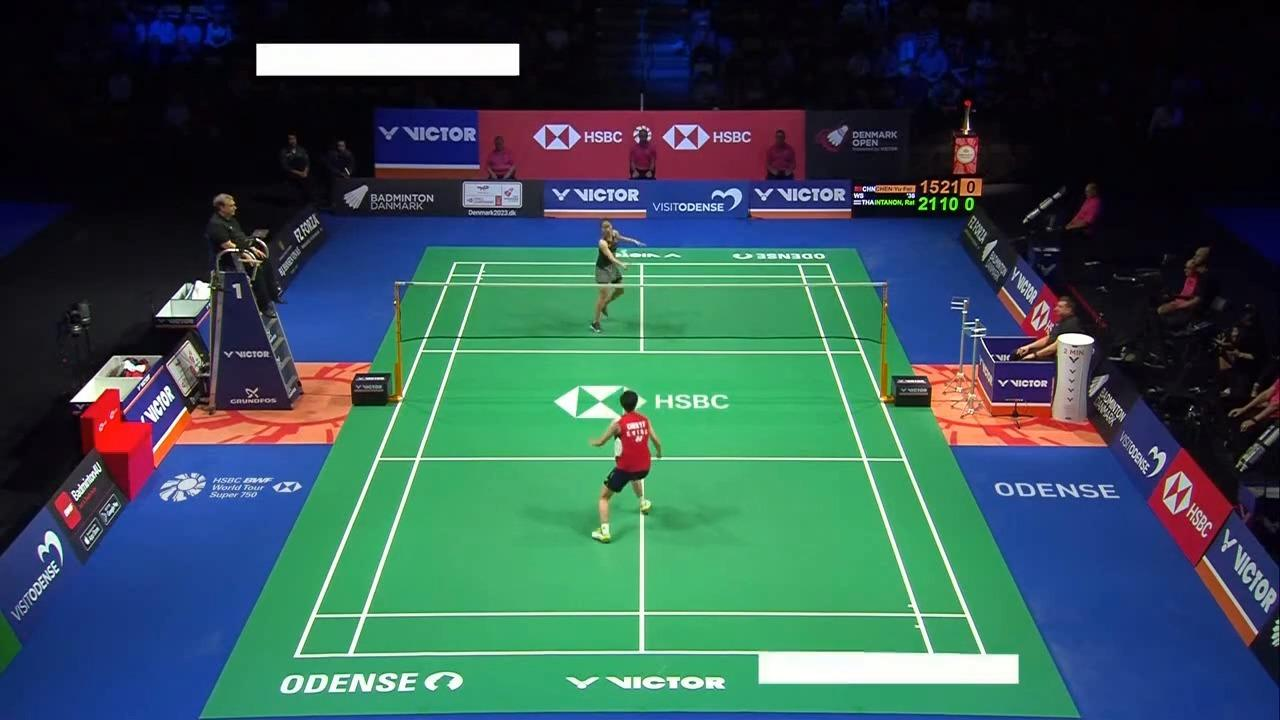shuttle: (620, 246, 629, 257)
